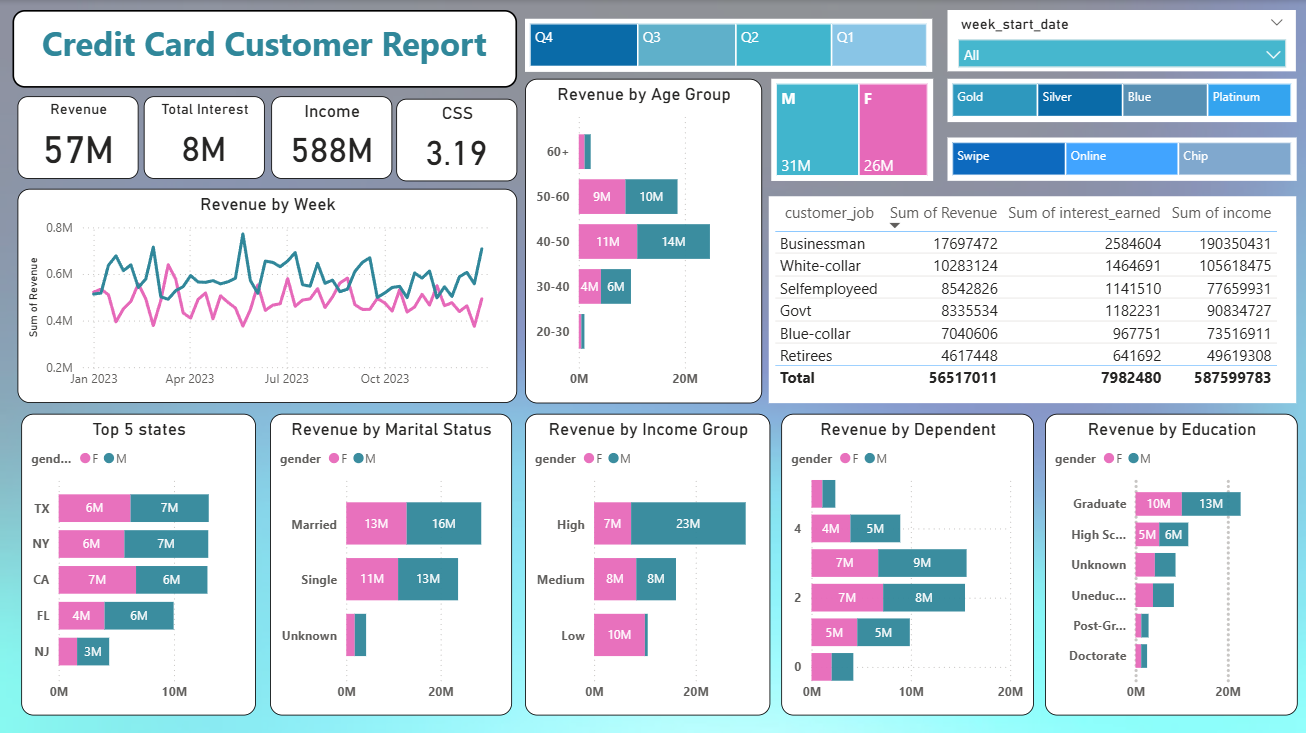

The page's visual inventory and layout, read from the dashboard file:
{"tool":"powerbi","page":{"name":"cc customer","canvas":[1280,720],"ordinal":2},"visuals":[{"type":"textbox","box":[12.1,9.7,493.4,76],"z":0},{"type":"barChart","title":"Revenue by Income Group","fields":{"Category":["public cust_detail.IncomeGroup"],"Y":["Sum(public cc_detail.Revenue)"],"Series":["public cust_detail.gender"]},"box":[513.9,405.4,240.1,295.6],"z":1000},{"type":"barChart","title":"Revenue by Dependent","fields":{"Y":["Sum(public cc_detail.Revenue)"],"Category":["public cust_detail.dependent_count"],"Series":["public cust_detail.gender"]},"box":[763.7,405.4,247.3,295.6],"z":2000},{"type":"card","title":"Income","fields":{"Values":["Sum(public cust_detail.income)"]},"box":[265.4,94.1,118,80.8],"z":3000},{"type":"card","title":"Total Interest ","fields":{"Values":["Sum(public cc_detail.interest_earned)"]},"box":[141.2,94.1,118.2,80.8],"z":4000},{"type":"card","title":"CSS","fields":{"Values":["Avg(public cust_detail.cust_satisfaction_score)"]},"box":[387.3,96.5,118.2,80.8],"z":5000},{"type":"treemap","fields":{"Group":["public cc_detail.qtr"],"Values":["Avg(public cc_detail.client_num)"]},"box":[513.9,18.1,398.1,51.9],"z":6000},{"type":"card","title":"Revenue","fields":{"Values":["Sum(public cc_detail.Revenue)"]},"box":[16.9,94.1,118.2,80.8],"z":7000},{"type":"lineChart","title":"Revenue by Week","fields":{"Y":["Sum(public cc_detail.Revenue)"],"Series":["public cust_detail.gender"],"Category":["public cc_detail.week_start_date.Variation.Date Hierarchy.Year","public cc_detail.week_start_date.Variation.Date Hierarchy.Month","public cc_detail.week_start_date.Variation.Date Hierarchy.Day"]},"box":[16.9,184.6,488.6,209.9],"z":8000},{"type":"treemap","fields":{"Group":["public cust_detail.gender"],"Values":["Sum(public cc_detail.Revenue)"]},"box":[754,77.2,158,100.1],"z":9000},{"type":"tableEx","fields":{"Values":["public cust_detail.customer_job","Sum(public cc_detail.Revenue)","Sum(public cc_detail.interest_earned)","public cust_detail.income"]},"box":[751.6,191.8,516.4,202.7],"z":10000},{"type":"barChart","title":"Revenue by Age Group","fields":{"Category":["public cust_detail.AgeGroup"],"Y":["Sum(public cc_detail.Revenue)"],"Series":["public cust_detail.gender"]},"box":[513.9,77.2,231.6,317.3],"z":11000},{"type":"barChart","title":"Revenue by Education ","fields":{"Category":["public cust_detail.education_level"],"Y":["Sum(public cc_detail.Revenue)"],"Series":["public cust_detail.gender"]},"box":[1021.9,405.4,247.3,295.6],"z":12000},{"type":"barChart","title":"Top 5 states","fields":{"Category":["public cust_detail.state_cd"],"Y":["Sum(public cc_detail.Revenue)"],"Series":["public cust_detail.gender"]},"box":[20.5,405.4,229.2,295.6],"z":13000},{"type":"barChart","title":"Revenue by Marital Status","fields":{"Category":["public cust_detail.marital_status"],"Y":["Sum(public cc_detail.Revenue)"],"Series":["public cust_detail.gender"]},"box":[264.2,405.4,236.5,295.6],"z":14000},{"type":"slicer","fields":{"Values":["public cc_detail.week_start_date"]},"box":[926.9,9.8,341.2,59.9],"z":15000},{"type":"treemap","fields":{"Group":["public cc_detail.card_category"],"Values":["Avg(public cc_detail.client_num)"]},"box":[926.5,77.2,341.4,42.2],"z":16000},{"type":"treemap","fields":{"Group":["public cc_detail.use_chip"],"Values":["Avg(public cc_detail.client_num)"]},"box":[926.5,135.1,341.4,42.2],"z":17000}]}

Visuals, with their boxes in screenshot pixels (x1, y1, x2, y2), scaled from the page's 1280x720 canvas onto the 1306x733 screenshot:
textbox: (left=12, top=10, right=516, bottom=87)
"Revenue by Income Group" barChart: (left=524, top=413, right=769, bottom=714)
"Revenue by Dependent" barChart: (left=779, top=413, right=1032, bottom=714)
"Income" card: (left=271, top=96, right=391, bottom=178)
"Total Interest " card: (left=144, top=96, right=265, bottom=178)
"CSS" card: (left=395, top=98, right=516, bottom=181)
treemap - public cc_detail.qtr x Avg(public cc_detail.client_num): (left=524, top=18, right=931, bottom=71)
"Revenue" card: (left=17, top=96, right=138, bottom=178)
"Revenue by Week" lineChart: (left=17, top=188, right=516, bottom=402)
treemap - public cust_detail.gender x Sum(public cc_detail.Revenue): (left=769, top=79, right=931, bottom=181)
tableEx - public cust_detail.customer_job x Sum(public cc_detail.Revenue): (left=767, top=195, right=1294, bottom=402)
"Revenue by Age Group" barChart: (left=524, top=79, right=761, bottom=402)
"Revenue by Education " barChart: (left=1043, top=413, right=1295, bottom=714)
"Top 5 states" barChart: (left=21, top=413, right=255, bottom=714)
"Revenue by Marital Status" barChart: (left=270, top=413, right=511, bottom=714)
slicer - public cc_detail.week_start_date: (left=946, top=10, right=1294, bottom=71)
treemap - public cc_detail.card_category x Avg(public cc_detail.client_num): (left=945, top=79, right=1294, bottom=122)
treemap - public cc_detail.use_chip x Avg(public cc_detail.client_num): (left=945, top=138, right=1294, bottom=181)
